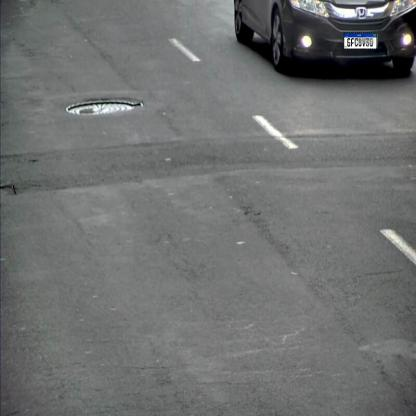PlacaM: (344, 33, 377, 49)
